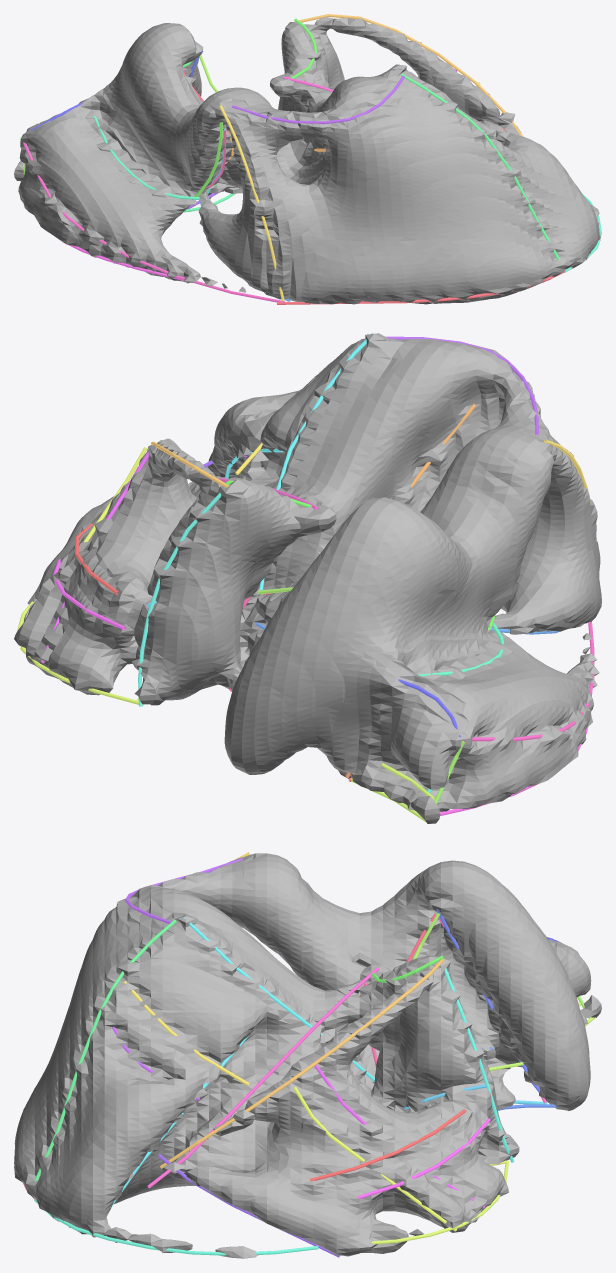
File: author1_building.gltf
3 views of the same model, one above another, from view 1: azimuth 30°, elevation 25°; view 2: azimuth 150°, elevation 25°; view 3: azimuth 270°, elevation 25° (orthographic). The views are drawn at different scales.
Size of the model in its own units: 0.708 by 0.3119 by 0.6741.
